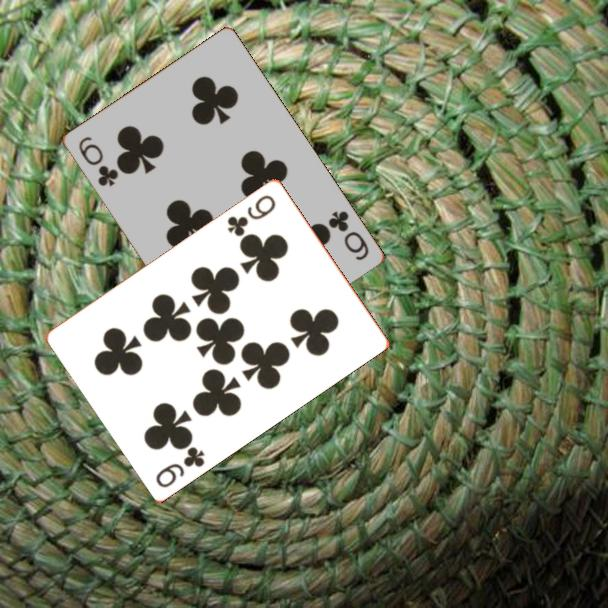c06: (324, 207, 371, 263), (75, 133, 121, 189)
c09: (152, 442, 208, 490), (224, 191, 279, 239)
